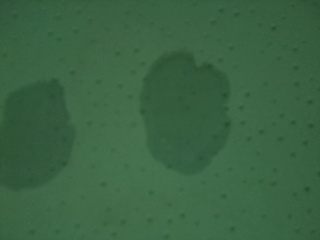Water_detected: (148, 75, 207, 157), (5, 102, 59, 177)
